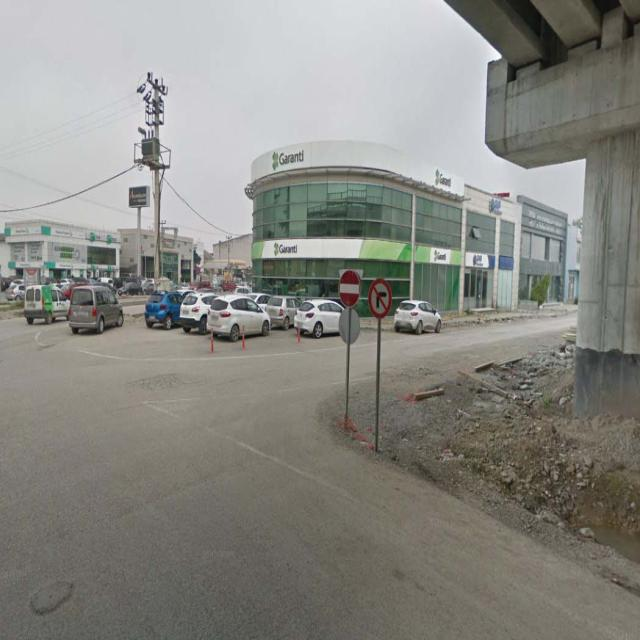girisyok: (338, 270, 361, 307)
sagadonulmez: (370, 276, 390, 319)
